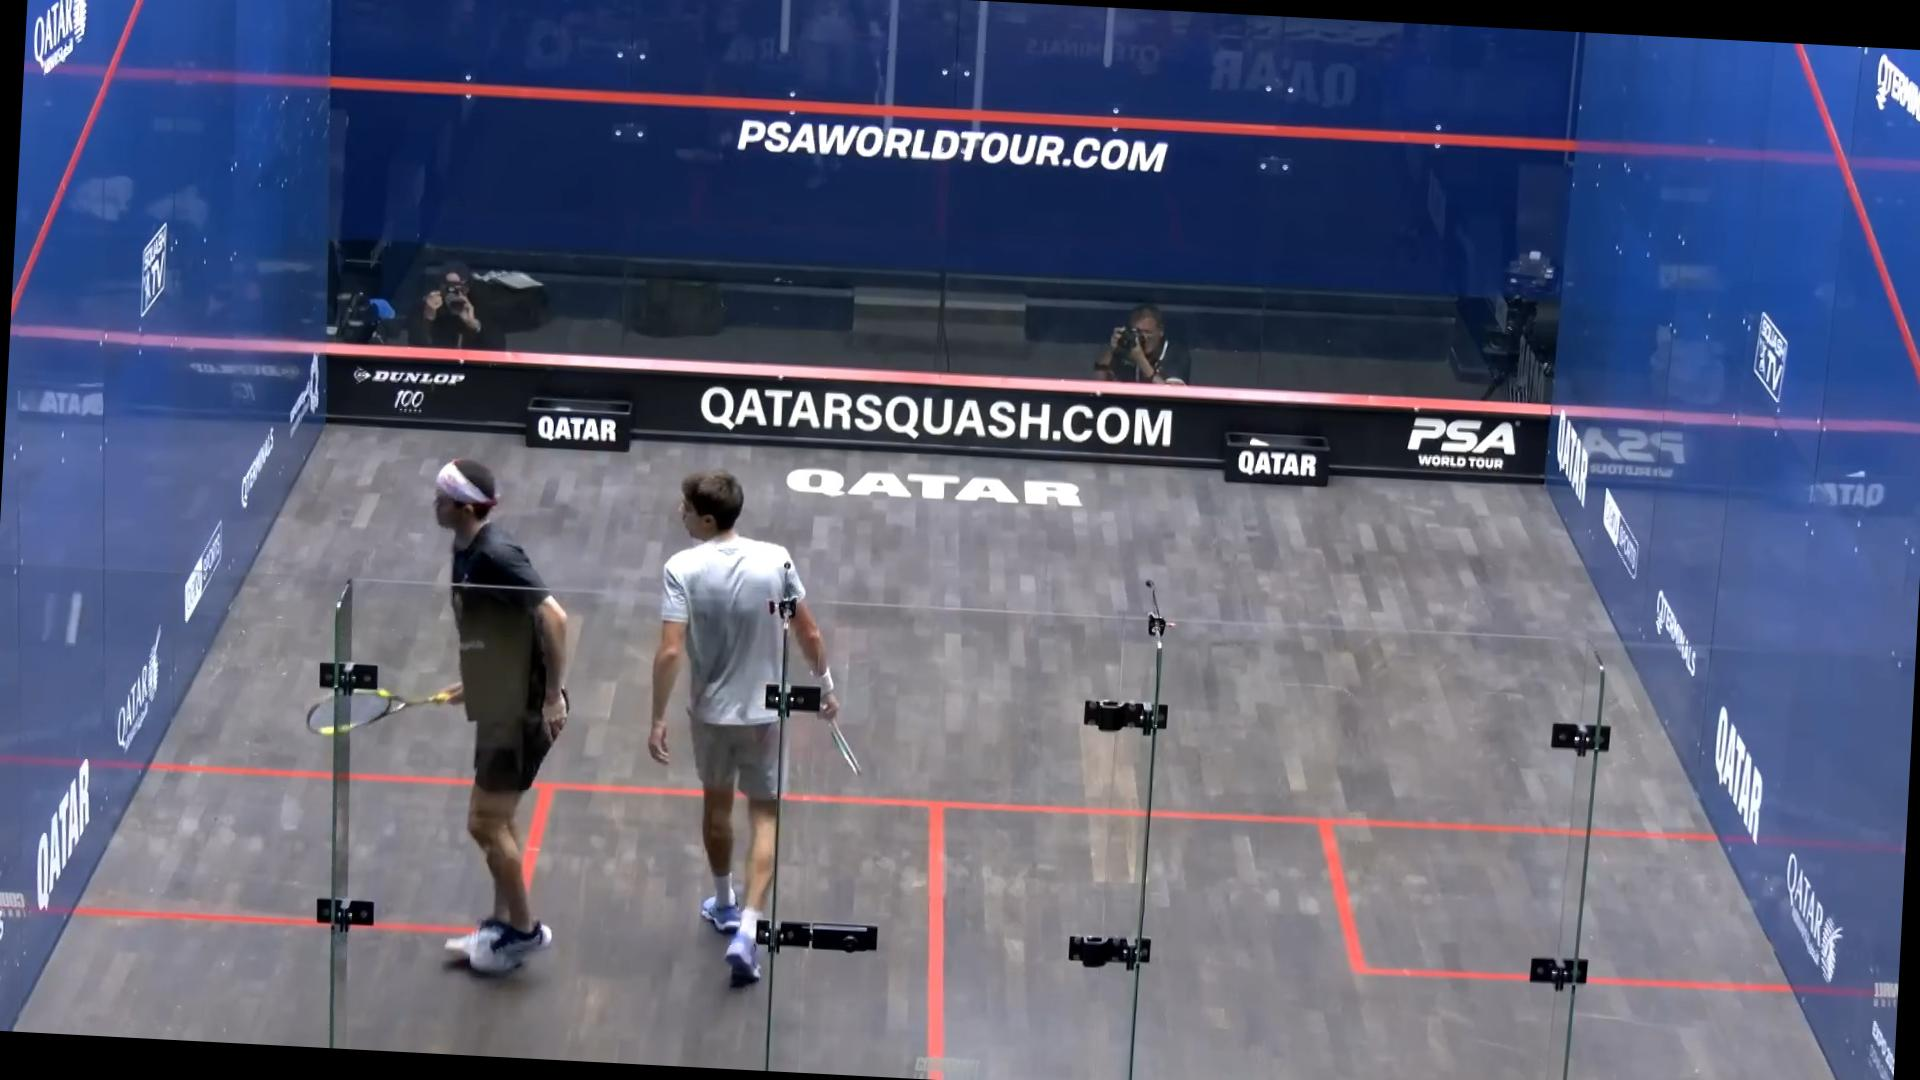Racket: (301, 679, 452, 753)
